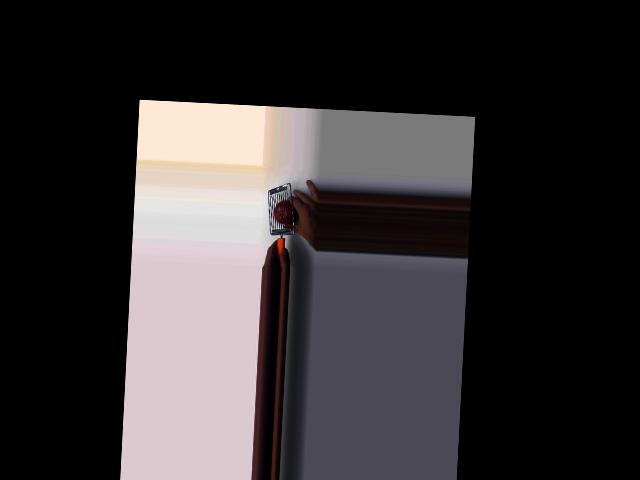tomato: (273, 200, 297, 225)
